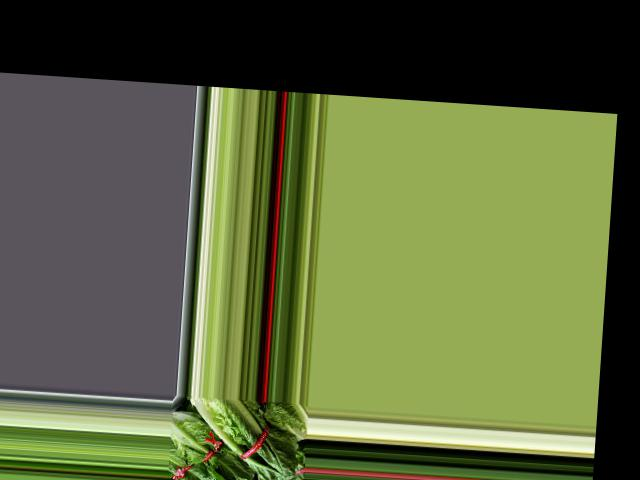lettuce: (186, 395, 302, 480)
